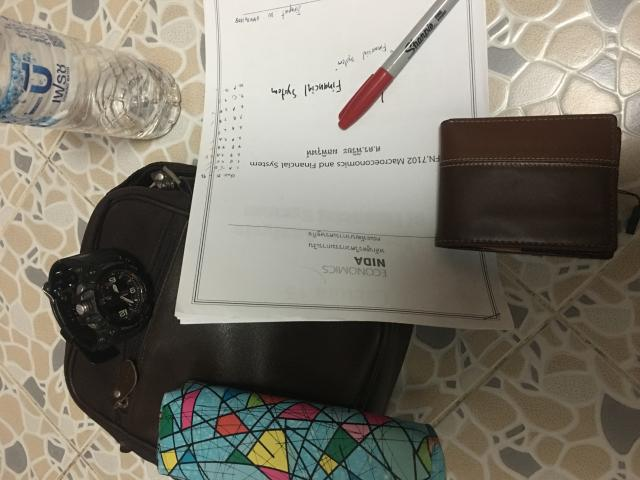Pen: (339, 0, 459, 130)
Wallet: (435, 114, 621, 259)
Watch: (42, 249, 152, 364)
bottle: (0, 16, 181, 139)
paper: (175, 0, 511, 329)
